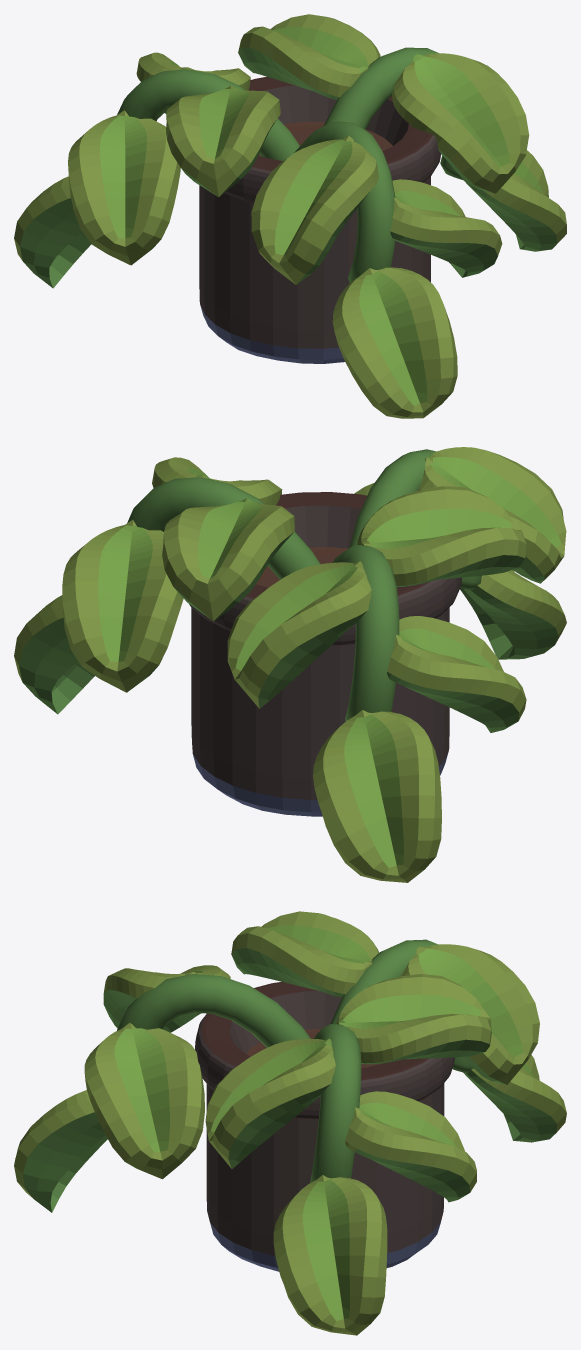
File: 3D_Plant1.fbx
The picture shows the model from 3 angles, top to bottom: view 1: azimuth 30°, elevation 25°; view 2: azimuth 150°, elevation 25°; view 3: azimuth 270°, elevation 25°; orthographic projection. The views are drawn at different scales.
Parts seen in each view (by area): view 1: 3D_Plant1; view 2: 3D_Plant1; view 3: 3D_Plant1.
Part boxes in pixels (<box>): 3D_Plant1: <box>14,14,566,418</box>; 3D_Plant1: <box>14,447,566,882</box>; 3D_Plant1: <box>14,911,566,1335</box>.
Size of the model in its own units: 56.92 by 30.98 by 57.94.
